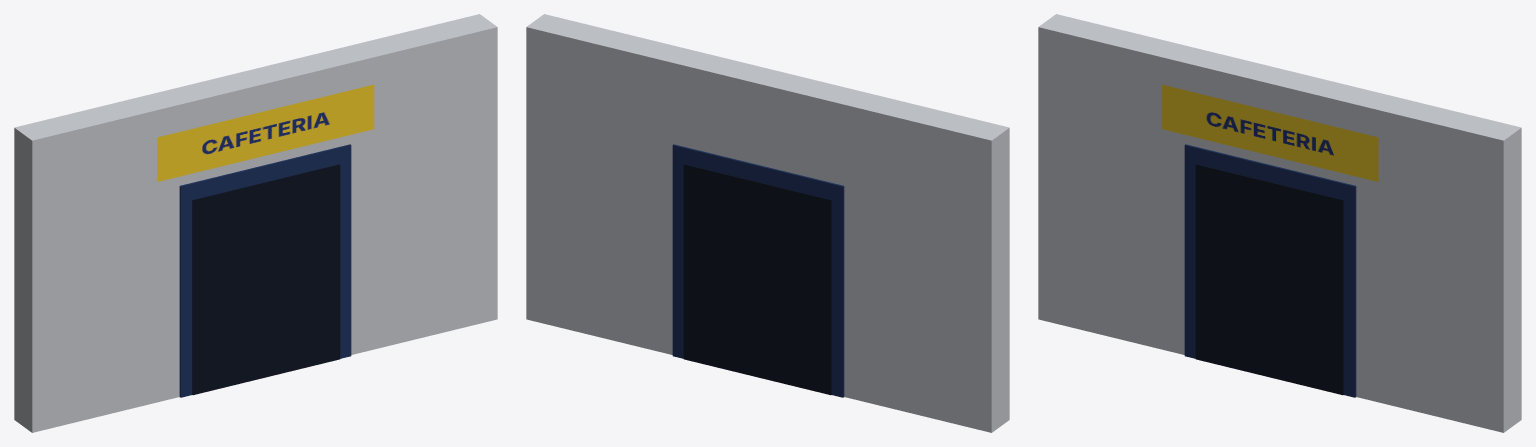
The model's file is school_entrance.glb.
The picture shows the model from 3 angles, left to right: view 1: azimuth 30°, elevation 25°; view 2: azimuth 150°, elevation 25°; view 3: azimuth 330°, elevation 25°; orthographic projection.
Parts seen in each view (by area): view 1: school_entrance; view 2: school_entrance; view 3: school_entrance.
Boxes of the visible parts, x1,y1,x2,y2 form: school_entrance: [14, 14, 497, 432]; school_entrance: [526, 14, 1009, 432]; school_entrance: [1038, 14, 1521, 432].
Bounding box in the file's own units: 6 × 3.6 × 0.47.
Materials: 4 (1 with a texture image).
